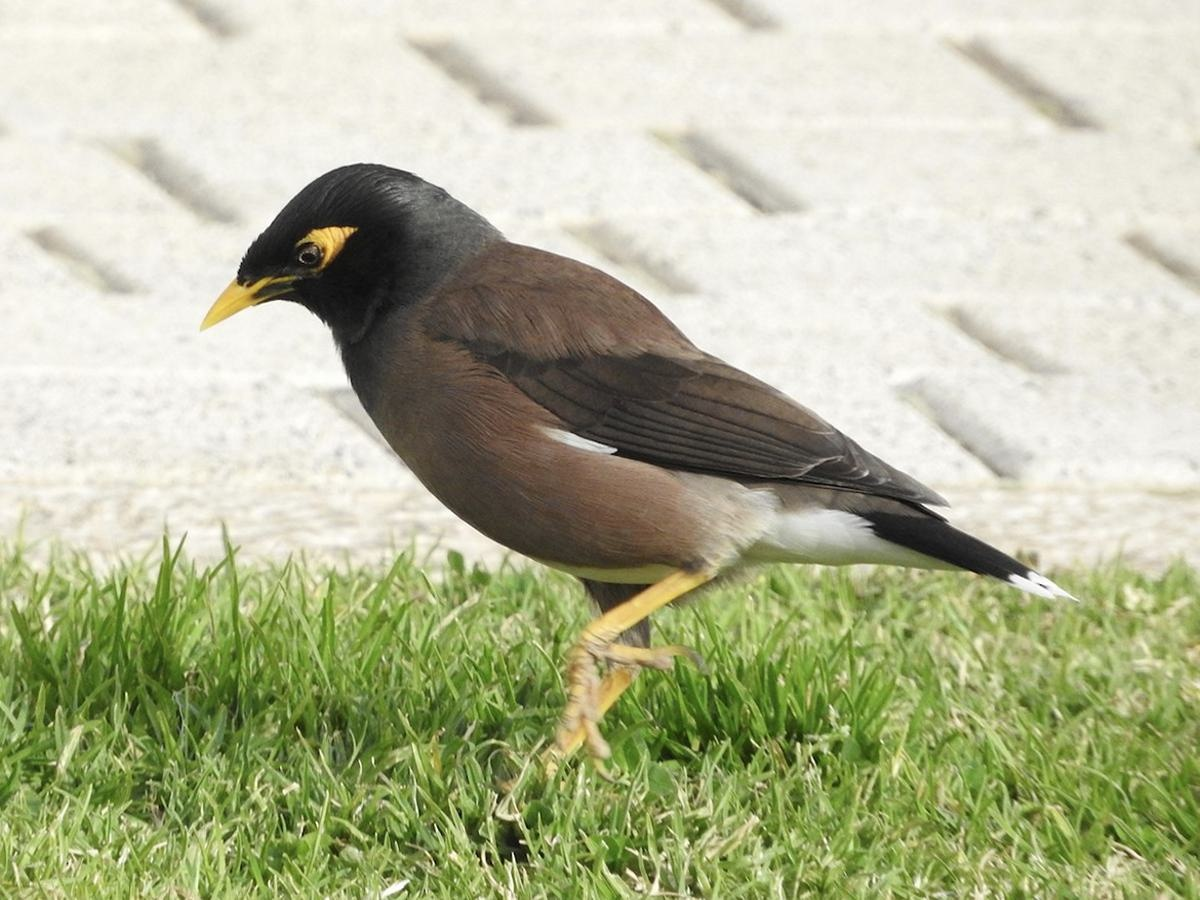myna: (188, 126, 997, 762)
